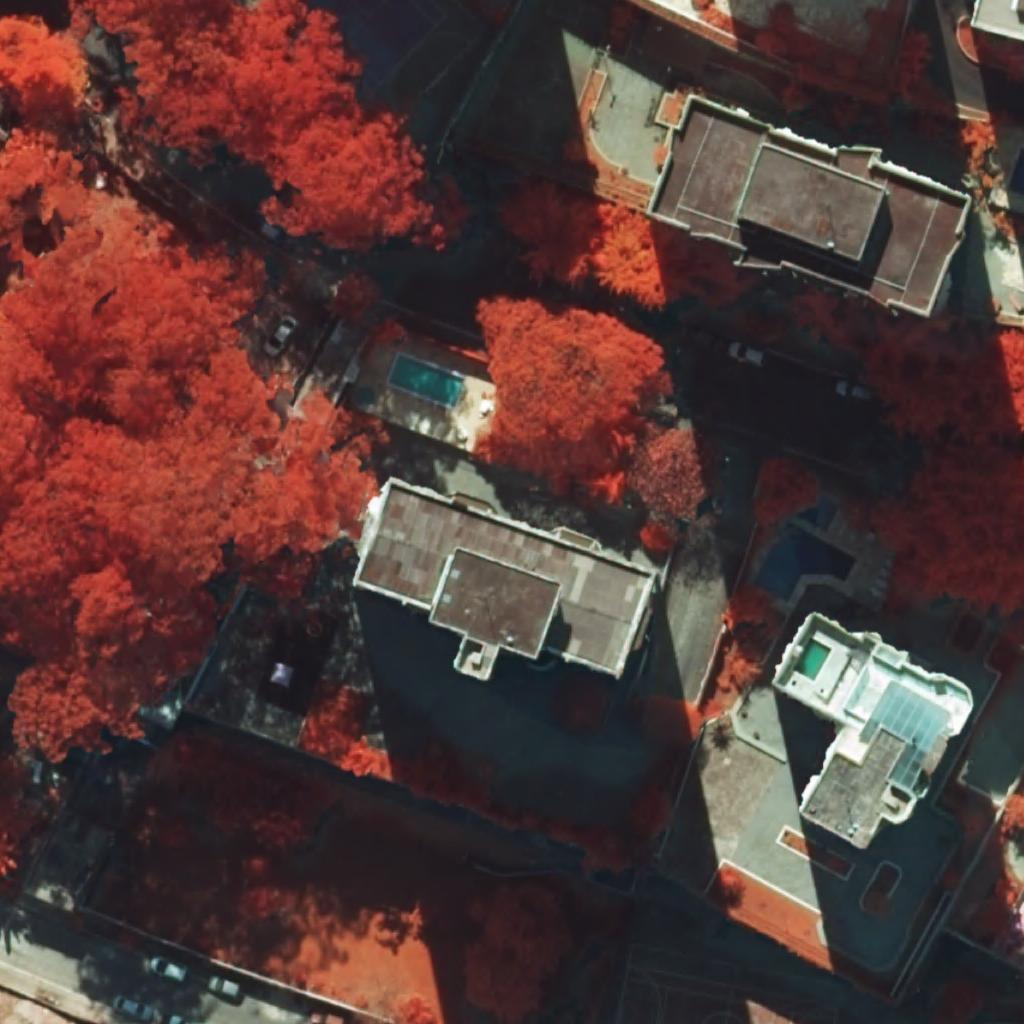pool: (752, 522, 858, 603), (389, 355, 463, 406), (793, 637, 832, 681)
